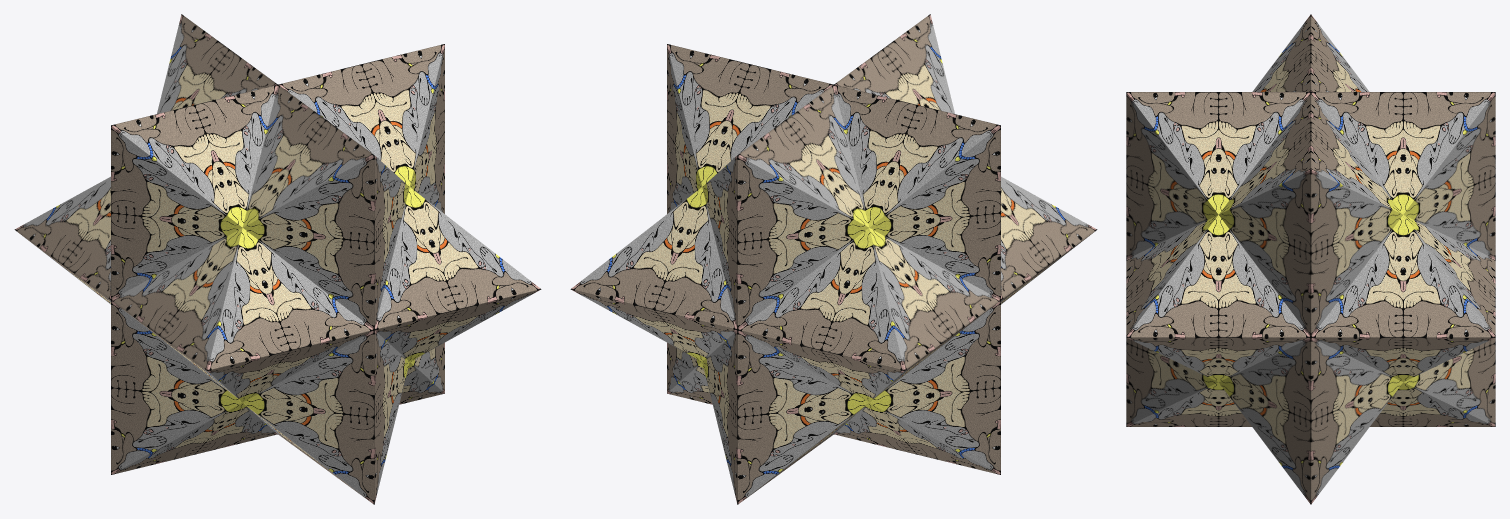
File: Escher26.obj
3 renders of one model, left to right at view 1: azimuth 30°, elevation 25°; view 2: azimuth 150°, elevation 25°; view 3: azimuth 270°, elevation 25°, orthographic. The views are drawn at different scales.
Bounding box in the file's own units: 2 × 2 × 2.
1 material, 1 textured.
